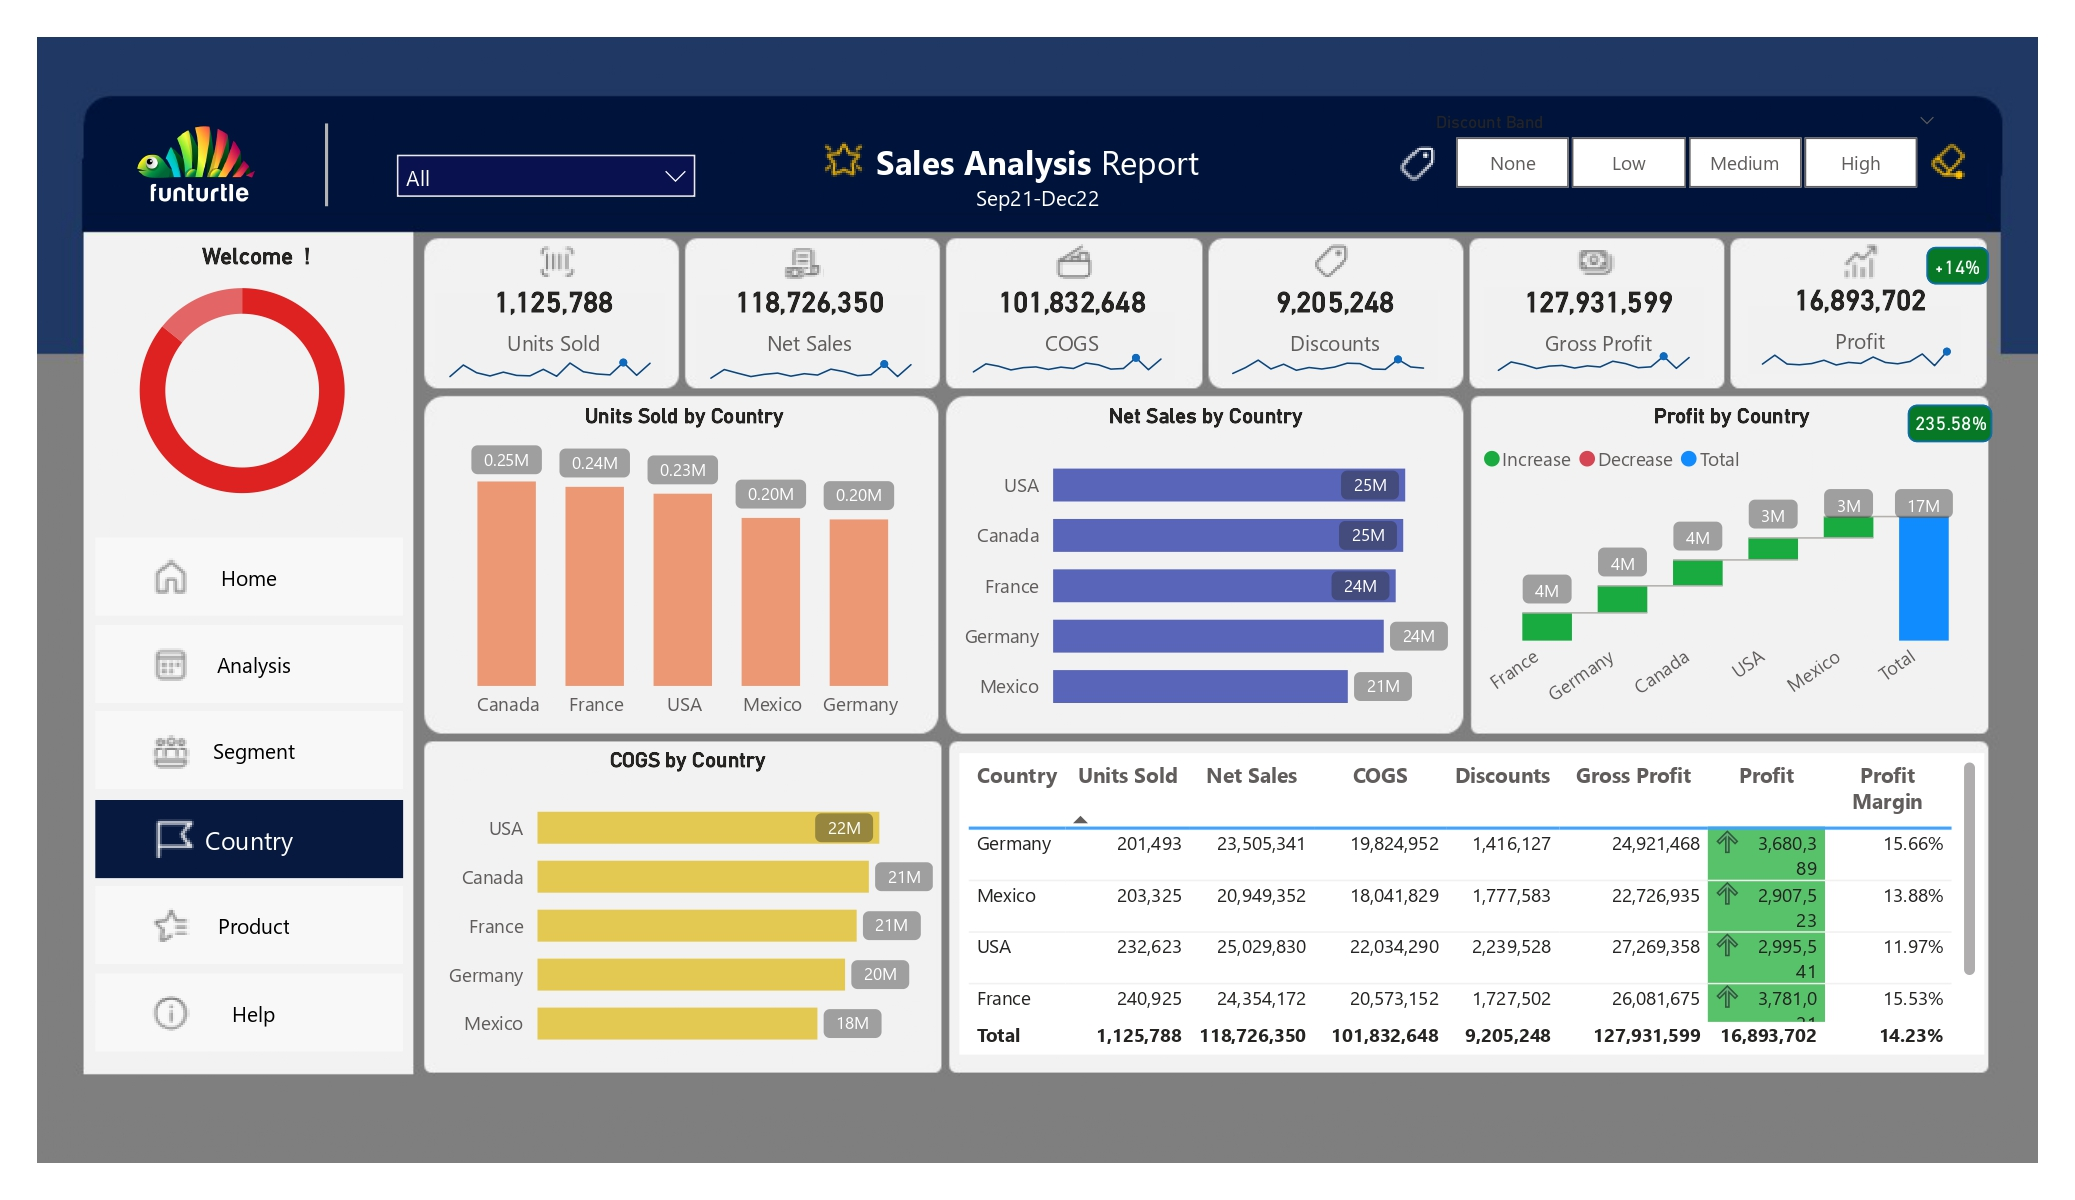

This screenshot's page, from the dashboard's own definition file:
{"tool":"powerbi","page":{"name":"Country","canvas":[1280,720],"ordinal":3},"visuals":[{"type":"shape","box":[1197.5,235.4,53.2,24.1],"z":0},{"type":"shape","box":[1208.9,134.2,40.5,24.1],"z":1000},{"type":"tableEx","fields":{"Values":["SparklineData(_Calculations.Profit_[Calender.MonthInCalendar])"]},"box":[1088.5,167.2,161.6,59.5],"z":2000},{"type":"tableEx","fields":{"Values":["SparklineData(_Calculations.Gross Profit_[Calender.MonthInCalendar])"]},"box":[920,154.7,161.4,78.6],"z":3000},{"type":"tableEx","fields":{"Values":["SparklineData(_Calculations.Discounts_[Calender.MonthInCalendar])"]},"box":[750,157.1,161.4,78.6],"z":4000},{"type":"tableEx","fields":{"Values":["SparklineData(_Calculations.Net Sales_[Calender.MonthInCalendar])"]},"box":[415.7,160.4,167.1,68.6],"z":5000},{"type":"tableEx","fields":{"Values":["SparklineData(_Calculations.COGS_[Calender.MonthInCalendar])"]},"box":[584.3,171.4,165.7,55.7],"z":6000},{"type":"tableEx","fields":{"Values":["SparklineData(_Calculations.Units Sold_[Calender.MonthInCalendar])"]},"box":[248.6,158.6,167.1,68.6],"z":7000},{"type":"image","box":[52.9,27.1,97.1,107.1],"z":8000},{"type":"textbox","box":[506.1,59.5,267.9,42.5],"z":9000},{"type":"textbox","box":[557,89.3,165.8,45.4],"z":10000},{"type":"slicer","fields":{"Values":["Managers.First Name"]},"box":[219.7,65.2,211.2,46.8],"z":11000},{"type":"shape","box":[150.2,55.3,69.4,52.4],"z":12000},{"type":"actionButton","box":[498.9,60.9,38.3,34],"z":13000},{"type":"slicer","fields":{"Values":["Sales.Discount Band"]},"box":[881.6,42.5,345.8,60.9],"z":14000},{"type":"actionButton","box":[866,63.8,38.3,34],"z":15000},{"type":"actionButton","box":[1206.1,62.4,38.3,34],"z":16000},{"type":"card","fields":{"Values":["_Calculations.Units Sold"]},"box":[254.3,150.4,152.9,55.7],"z":17000},{"type":"card","fields":{"Values":["_Calculations.Gross Profit"]},"box":[918.3,150.4,161.4,55.7],"z":18000},{"type":"card","fields":{"Values":["_Calculations.Discounts"]},"box":[749.4,150.4,162.9,55.7],"z":19000},{"type":"card","fields":{"Values":["_Calculations.COGS"]},"box":[580.6,150.4,162.9,55.7],"z":20000},{"type":"card","fields":{"Values":["_Calculations.Profit"]},"box":[1085.7,149.4,161.4,55.7],"z":21000},{"type":"card","fields":{"Values":["_Calculations.Net Sales"]},"box":[413.1,150.4,161.4,55.7],"z":22000},{"type":"lineStackedColumnComboChart","title":"Units Sold by Country","fields":{"Category":["Sales.Country"],"Y":["_Calculations.Units Sold"]},"box":[253.7,235.3,320.3,209.8],"z":23000},{"type":"barChart","title":"Net Sales by Country","fields":{"Category":["Sales.Country"],"Y":["_Calculations.Net Sales"]},"box":[583.9,235.3,327.4,209.8],"z":24000},{"type":"waterfallChart","title":"Profit by Country","fields":{"Category":["Sales.Country"],"Y":["_Calculations.Profit"]},"box":[919.8,235.3,328.8,209.8],"z":25000},{"type":"barChart","title":"COGS by Country","fields":{"Category":["Sales.Country"],"Y":["_Calculations.COGS"]},"box":[253.7,455,324.6,205.5],"z":26000},{"type":"tableEx","fields":{"Values":["Sales.Country","_Calculations.Units Sold","_Calculations.Net Sales","_Calculations.COGS","_Calculations.Discounts","_Calculations.Gross Profit","_Calculations.Profit","_Calculations.Profit Margin"]},"box":[589.6,457.8,656.2,192.8],"z":27000},{"type":"actionButton","box":[315.7,127.1,38.6,32.9],"z":28000},{"type":"actionButton","box":[474.3,127.1,38.6,32.9],"z":29000},{"type":"actionButton","box":[647.1,127.1,38.6,32.9],"z":30000},{"type":"actionButton","box":[811.4,127.1,38.6,32.9],"z":31000},{"type":"actionButton","box":[981.4,127.1,38.6,32.9],"z":32000},{"type":"actionButton","box":[1150,127.1,38.6,32.9],"z":33000},{"type":"donutChart","fields":{"Y":["_Calculations.Cost to Sales%","_Calculations.Profit Margin"]},"box":[43.9,137.5,174.3,177.2],"z":34000},{"type":"card","fields":{"Values":["_Calculations.Greetings"]},"box":[48.2,107.7,182.8,66.6],"z":35000},{"type":"card","fields":{"Values":["_Calculations.Profit Margin Format"]},"box":[1206.3,134.2,44.3,25.3],"z":36000},{"type":"card","fields":{"Values":["_Calculations.Profit YoY%"]},"box":[1192.4,234.2,64.6,25.3],"z":37000},{"type":"actionButton","box":[37.1,320,197.1,50],"z":38000},{"type":"actionButton","box":[37.1,375.7,197.1,50],"z":39000},{"type":"actionButton","box":[37.1,431.4,197.1,50],"z":40000},{"type":"actionButton","box":[37.3,487.8,197.1,50],"z":41000},{"type":"actionButton","box":[37.3,599.2,197.1,50],"z":42000},{"type":"actionButton","box":[37.3,543.5,197.1,50],"z":43000}]}

Visuals, with their boxes on the page's 1280x720 design canvas (x1, y1, x2, y2). These are canvas units, not pixel positions in the 2075x1200 screenshot, which may show the page scaled, cropped or inside an application window:
shape: Rect(1198, 235, 1251, 260)
shape: Rect(1209, 134, 1249, 158)
tableEx - SparklineData(_Calculations.Profit_[Calender.MonthInCalendar]): Rect(1088, 167, 1250, 227)
tableEx - SparklineData(_Calculations.Gross Profit_[Calender.MonthInCalendar]): Rect(920, 155, 1081, 233)
tableEx - SparklineData(_Calculations.Discounts_[Calender.MonthInCalendar]): Rect(750, 157, 911, 236)
tableEx - SparklineData(_Calculations.Net Sales_[Calender.MonthInCalendar]): Rect(416, 160, 583, 229)
tableEx - SparklineData(_Calculations.COGS_[Calender.MonthInCalendar]): Rect(584, 171, 750, 227)
tableEx - SparklineData(_Calculations.Units Sold_[Calender.MonthInCalendar]): Rect(249, 159, 416, 227)
image: Rect(53, 27, 150, 134)
textbox: Rect(506, 60, 774, 102)
textbox: Rect(557, 89, 723, 135)
slicer - Managers.First Name: Rect(220, 65, 431, 112)
shape: Rect(150, 55, 220, 108)
actionButton: Rect(499, 61, 537, 95)
slicer - Sales.Discount Band: Rect(882, 42, 1227, 103)
actionButton: Rect(866, 64, 904, 98)
actionButton: Rect(1206, 62, 1244, 96)
card - _Calculations.Units Sold: Rect(254, 150, 407, 206)
card - _Calculations.Gross Profit: Rect(918, 150, 1080, 206)
card - _Calculations.Discounts: Rect(749, 150, 912, 206)
card - _Calculations.COGS: Rect(581, 150, 744, 206)
card - _Calculations.Profit: Rect(1086, 149, 1247, 205)
card - _Calculations.Net Sales: Rect(413, 150, 574, 206)
"Units Sold by Country" lineStackedColumnComboChart: Rect(254, 235, 574, 445)
"Net Sales by Country" barChart: Rect(584, 235, 911, 445)
"Profit by Country" waterfallChart: Rect(920, 235, 1249, 445)
"COGS by Country" barChart: Rect(254, 455, 578, 660)
tableEx - Sales.Country x _Calculations.Units Sold: Rect(590, 458, 1246, 651)
actionButton: Rect(316, 127, 354, 160)
actionButton: Rect(474, 127, 513, 160)
actionButton: Rect(647, 127, 686, 160)
actionButton: Rect(811, 127, 850, 160)
actionButton: Rect(981, 127, 1020, 160)
actionButton: Rect(1150, 127, 1189, 160)
donutChart - _Calculations.Cost to Sales% x _Calculations.Profit Margin: Rect(44, 138, 218, 315)
card - _Calculations.Greetings: Rect(48, 108, 231, 174)
card - _Calculations.Profit Margin Format: Rect(1206, 134, 1251, 160)
card - _Calculations.Profit YoY%: Rect(1192, 234, 1257, 260)
actionButton: Rect(37, 320, 234, 370)
actionButton: Rect(37, 376, 234, 426)
actionButton: Rect(37, 431, 234, 481)
actionButton: Rect(37, 488, 234, 538)
actionButton: Rect(37, 599, 234, 649)
actionButton: Rect(37, 544, 234, 594)
